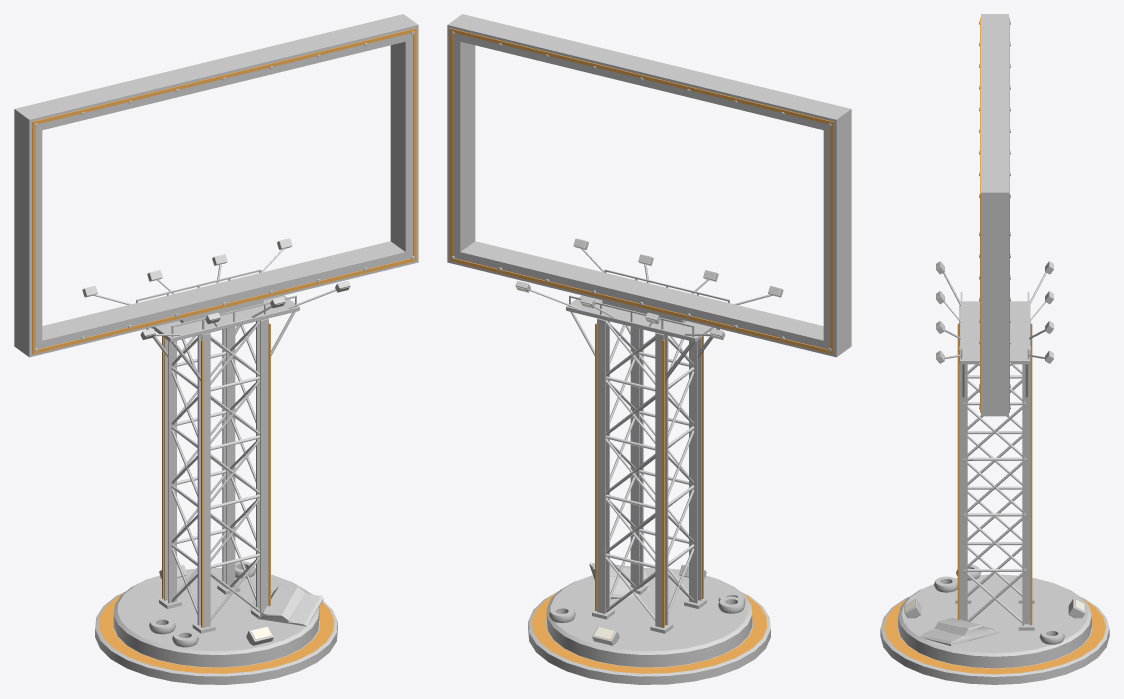
Rendered from Monument.glb.
The picture shows the model from 3 angles, left to right: view 1: azimuth 30°, elevation 25°; view 2: azimuth 150°, elevation 25°; view 3: azimuth 270°, elevation 25°; orthographic projection. The views are drawn at different scales.
Parts seen in each view (by area): view 1: Body, Glow; view 2: Body, Glow; view 3: Body, Glow.
Boxes of the visible parts, bbox=[...] form: Body: bbox=[14, 14, 418, 684]; Glow: bbox=[32, 28, 416, 673]; Body: bbox=[447, 14, 851, 684]; Glow: bbox=[449, 28, 833, 673]; Body: bbox=[880, 14, 1109, 684]; Glow: bbox=[884, 17, 1105, 674].
Size of the model in its own units: 48 by 66.8 by 26.
